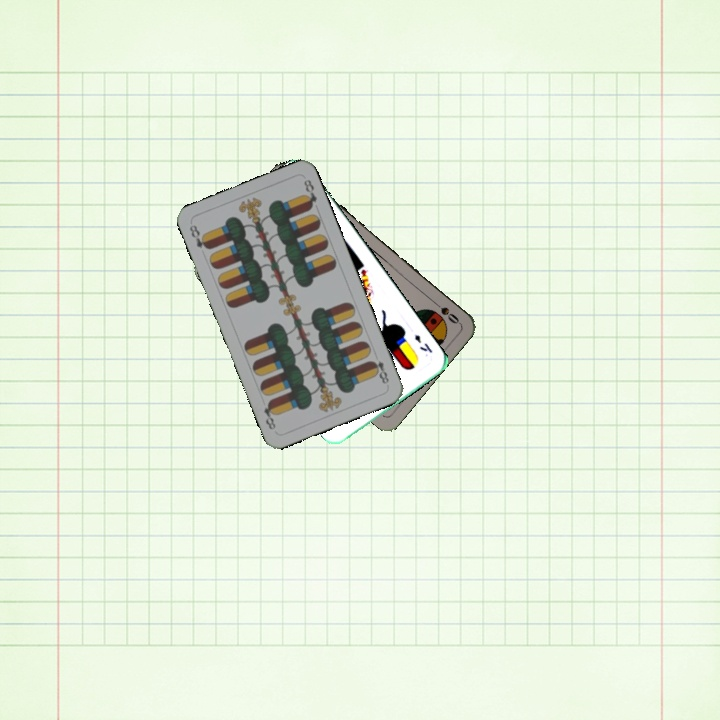E8: (185, 221, 212, 252), (367, 356, 391, 386)
EK: (410, 330, 435, 356)
SO: (428, 296, 462, 327)
